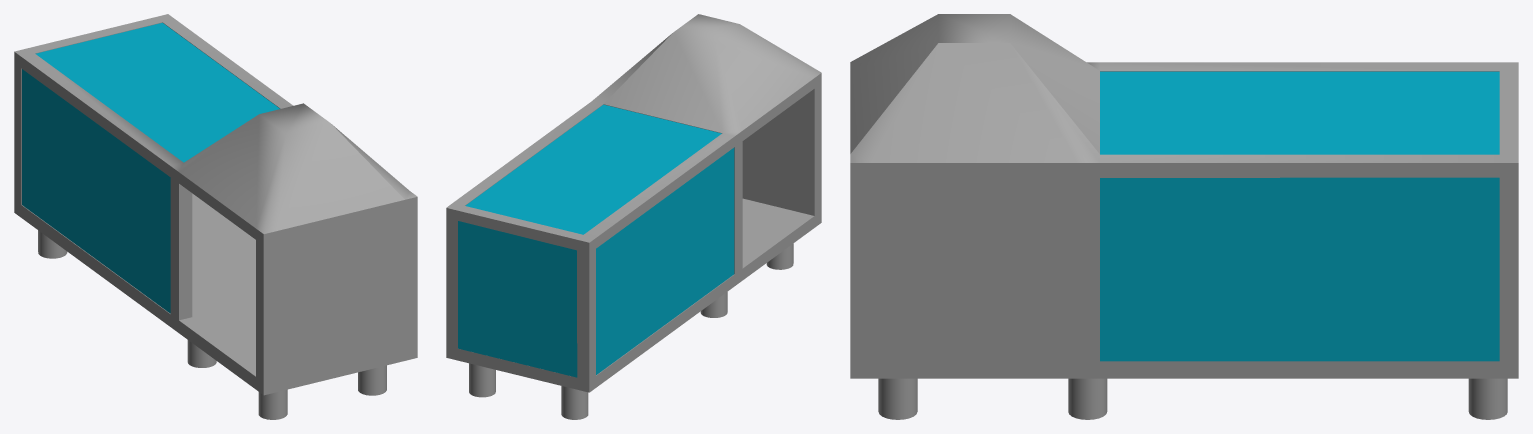
File: WateringDevice.fbx
3 views of the same model, side by side, from view 1: azimuth 30°, elevation 25°; view 2: azimuth 150°, elevation 25°; view 3: azimuth 270°, elevation 25° (orthographic). The views are drawn at different scales.
Parts seen in each view (by area): view 1: polySurface11; view 2: polySurface11; view 3: polySurface11.
Boxes of the visible parts, left/top/right/bottom form: polySurface11: left=14, top=14, right=417, bottom=419; polySurface11: left=446, top=14, right=821, bottom=419; polySurface11: left=850, top=14, right=1518, bottom=419.
Size of the model in its own units: 1 by 1.63 by 2.81.
